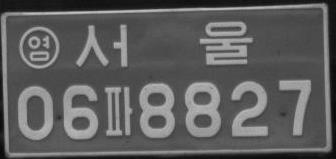0: (16, 85, 53, 141)
2: (230, 80, 270, 137)
6: (61, 83, 98, 141)
7: (278, 79, 312, 136)
8: (184, 80, 222, 139), (138, 82, 176, 138)
서울_D: (75, 19, 253, 68)
영: (18, 25, 60, 69)
파: (104, 85, 133, 136)
